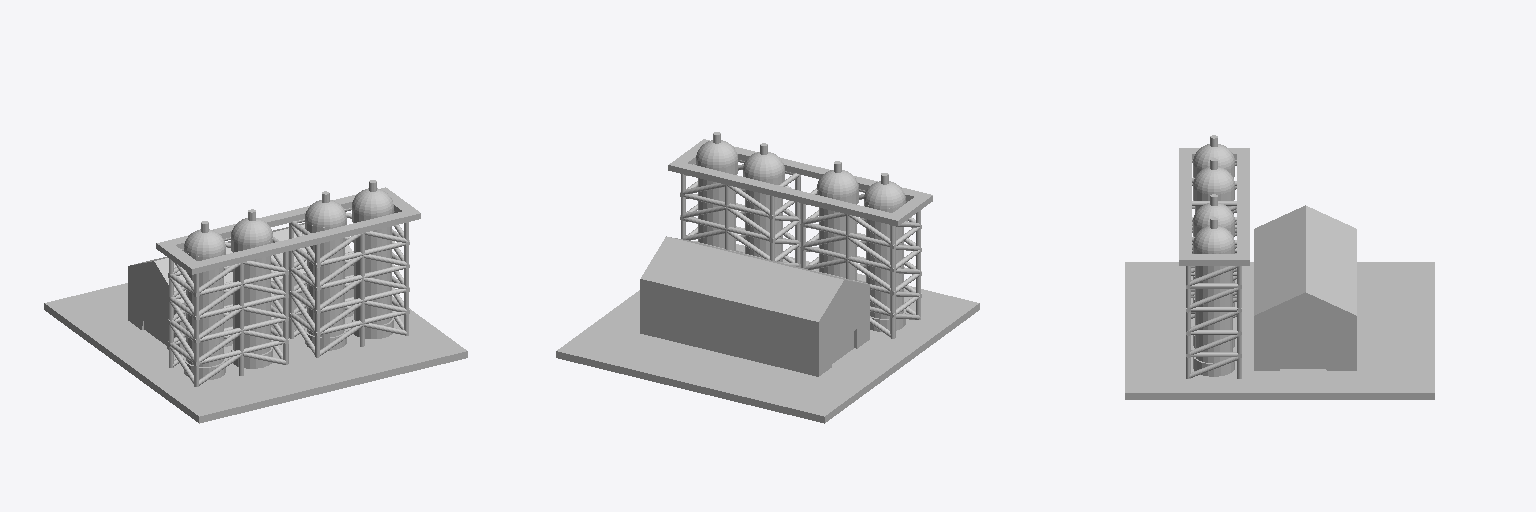
The model's file is Planta de Coque.obj.
3 renders of one model, left to right at view 1: azimuth 30°, elevation 25°; view 2: azimuth 150°, elevation 25°; view 3: azimuth 270°, elevation 25°, orthographic.
Visible parts, largest first — view 1: Floor, MainBuilding MainBuilding, Plank1 Planks, CokeFuelPipe PipeMid1, CokeFuelPipe3 PipeMid3, CokeFuelPipe4 PipeMid4, CokeFuelPipe2 PipeMid2, Planks Plank2, CokeFuelPipe CylinderTop1, CokeFuelPipe3 CylinderTop3, CokeFuelPipe4 CylinderTop4, CokeFuelPipe2 CylinderTop2; view 2: MainBuilding MainBuilding, Floor, Planks Plank2, CokeFuelPipe4 PipeMid4, CokeFuelPipe PipeMid1, CokeFuelPipe3 PipeMid3, CokeFuelPipe2 PipeMid2, Plank1 Planks, CokeFuelPipe2 CylinderTop2, CokeFuelPipe CylinderTop1, CokeFuelPipe4 CylinderTop4, CokeFuelPipe3 CylinderTop3; view 3: Floor, MainBuilding MainBuilding, CokeFuelPipe PipeMid1, Planks Plank2, Plank1 Planks, CokeFuelPipe CylinderTop1, CokeFuelPipe3 CylinderTop3, CokeFuelPipe2 CylinderTop2, CokeFuelPipe4 CylinderTop4, Planks Plank4.
Boxes of the visible parts, <box> form: Floor: <box>44,283,467,423</box>; MainBuilding MainBuilding: <box>128,223,353,354</box>; Plank1 Planks: <box>186,209,420,274</box>; CokeFuelPipe PipeMid1: <box>354,226,391,324</box>; CokeFuelPipe3 PipeMid3: <box>233,256,270,354</box>; CokeFuelPipe4 PipeMid4: <box>186,267,223,366</box>; CokeFuelPipe2 PipeMid2: <box>307,238,344,337</box>; Planks Plank2: <box>156,188,385,252</box>; CokeFuelPipe CylinderTop1: <box>352,188,393,215</box>; CokeFuelPipe3 CylinderTop3: <box>231,218,272,245</box>; CokeFuelPipe4 CylinderTop4: <box>184,229,225,256</box>; CokeFuelPipe2 CylinderTop2: <box>305,200,346,227</box>; MainBuilding MainBuilding: <box>640,236,869,376</box>; Floor: <box>556,244,979,423</box>; Planks Plank2: <box>668,161,903,226</box>; CokeFuelPipe4 PipeMid4: <box>866,219,903,318</box>; CokeFuelPipe PipeMid1: <box>698,178,735,250</box>; CokeFuelPipe3 PipeMid3: <box>819,208,856,280</box>; CokeFuelPipe2 PipeMid2: <box>745,190,782,261</box>; Plank1 Planks: <box>699,139,932,200</box>; CokeFuelPipe2 CylinderTop2: <box>743,152,784,179</box>; CokeFuelPipe CylinderTop1: <box>696,140,737,167</box>; CokeFuelPipe4 CylinderTop4: <box>864,181,905,208</box>; CokeFuelPipe3 CylinderTop3: <box>817,170,858,197</box>; Floor: <box>1125,262,1434,399</box>; MainBuilding MainBuilding: <box>1254,205,1356,370</box>; CokeFuelPipe PipeMid1: <box>1195,266,1232,363</box>; Planks Plank2: <box>1237,148,1249,265</box>; Plank1 Planks: <box>1179,148,1191,265</box>; CokeFuelPipe CylinderTop1: <box>1193,226,1234,253</box>; CokeFuelPipe3 CylinderTop3: <box>1193,167,1234,194</box>; CokeFuelPipe2 CylinderTop2: <box>1193,203,1234,228</box>; CokeFuelPipe4 CylinderTop4: <box>1193,144,1234,169</box>; Planks Plank4: <box>1179,254,1249,265</box>.
Bounding box in the file's own units: 20 × 11.12 × 20.